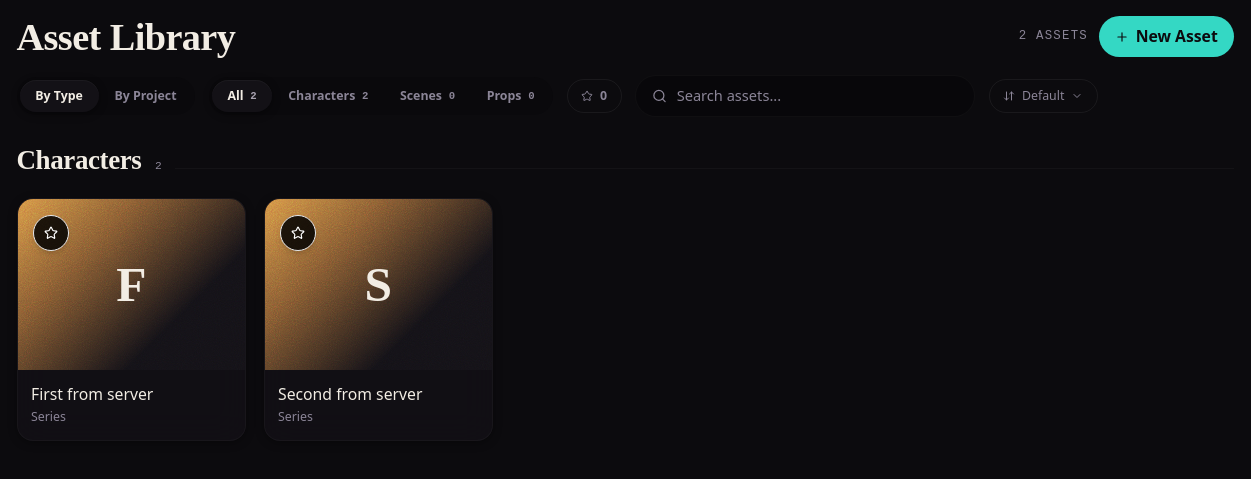
Test: Asset Library usage sorting › enables usage sorting, removes the backend placeholder, and defaults to most-used
Click the button with aria-label "Sort" at (1043, 96), box [989,79,1098,113]
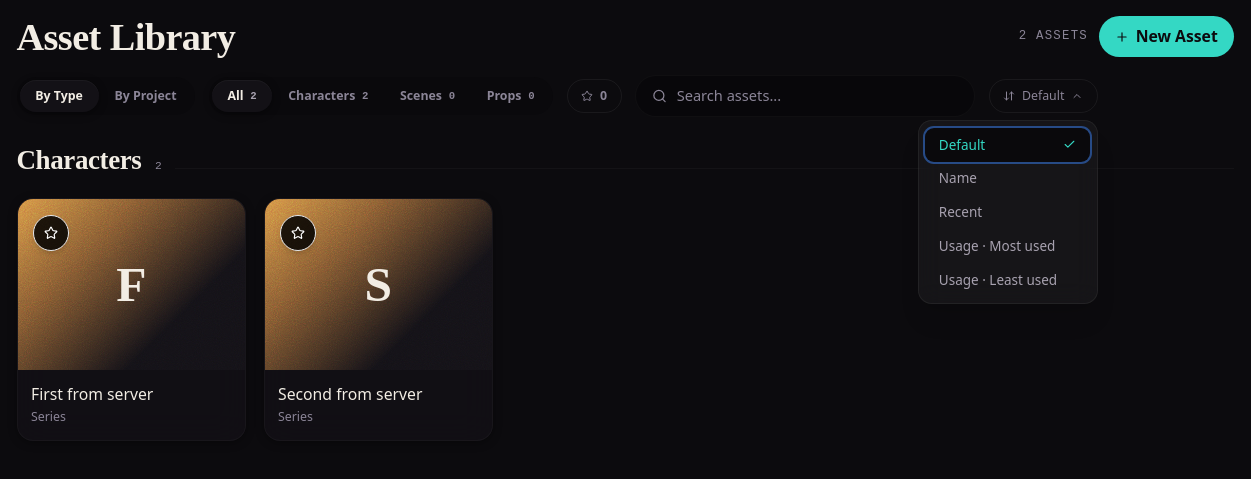
expect the option "Usage · Most used" is enabled: met
expect the option "Usage · Least used" is enabled: met, box [925,263,1090,297]
Click the option "Usage · Most used" at (1008, 246), box [925,229,1090,263]
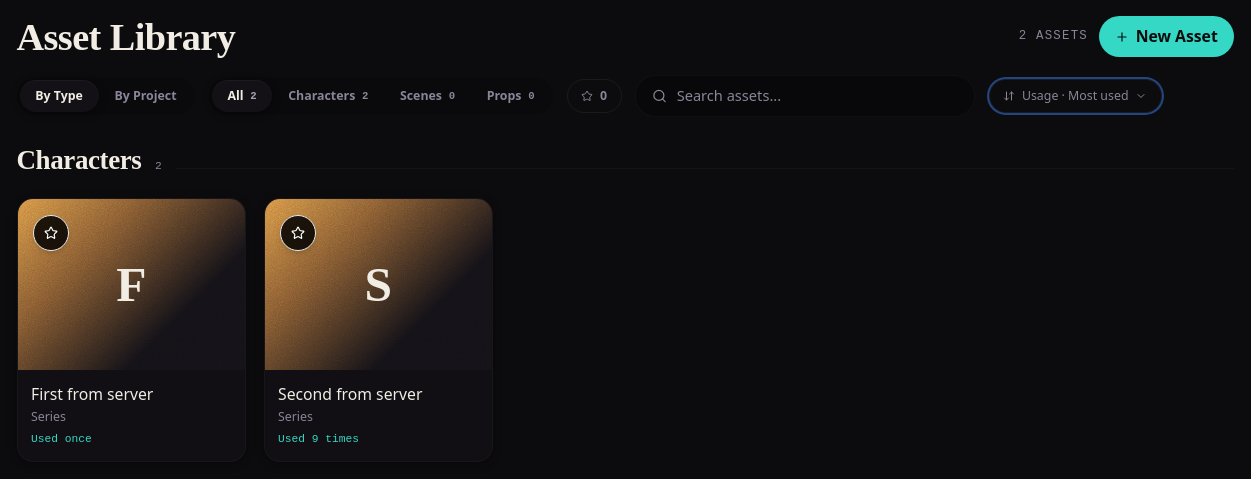
expect the button with aria-label "Sort" reads "Usage · Most used": met, box [989,79,1162,113]
